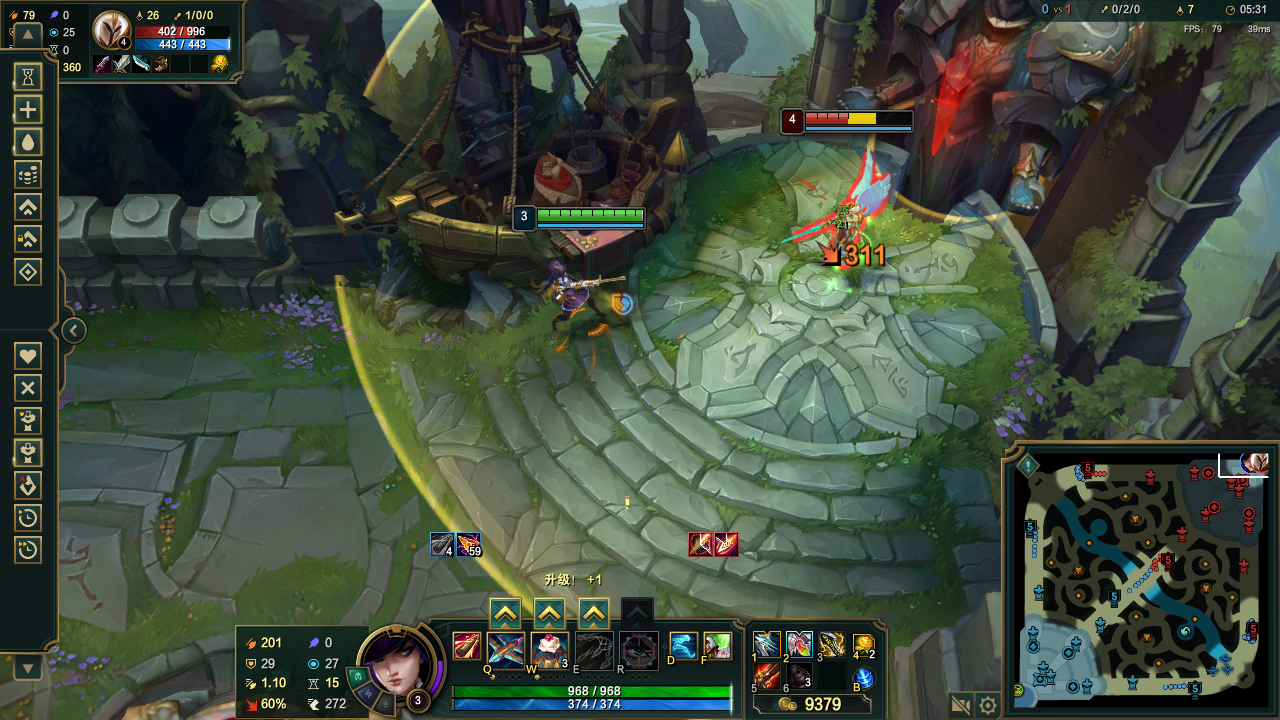DFYX: (797, 109, 917, 123)
